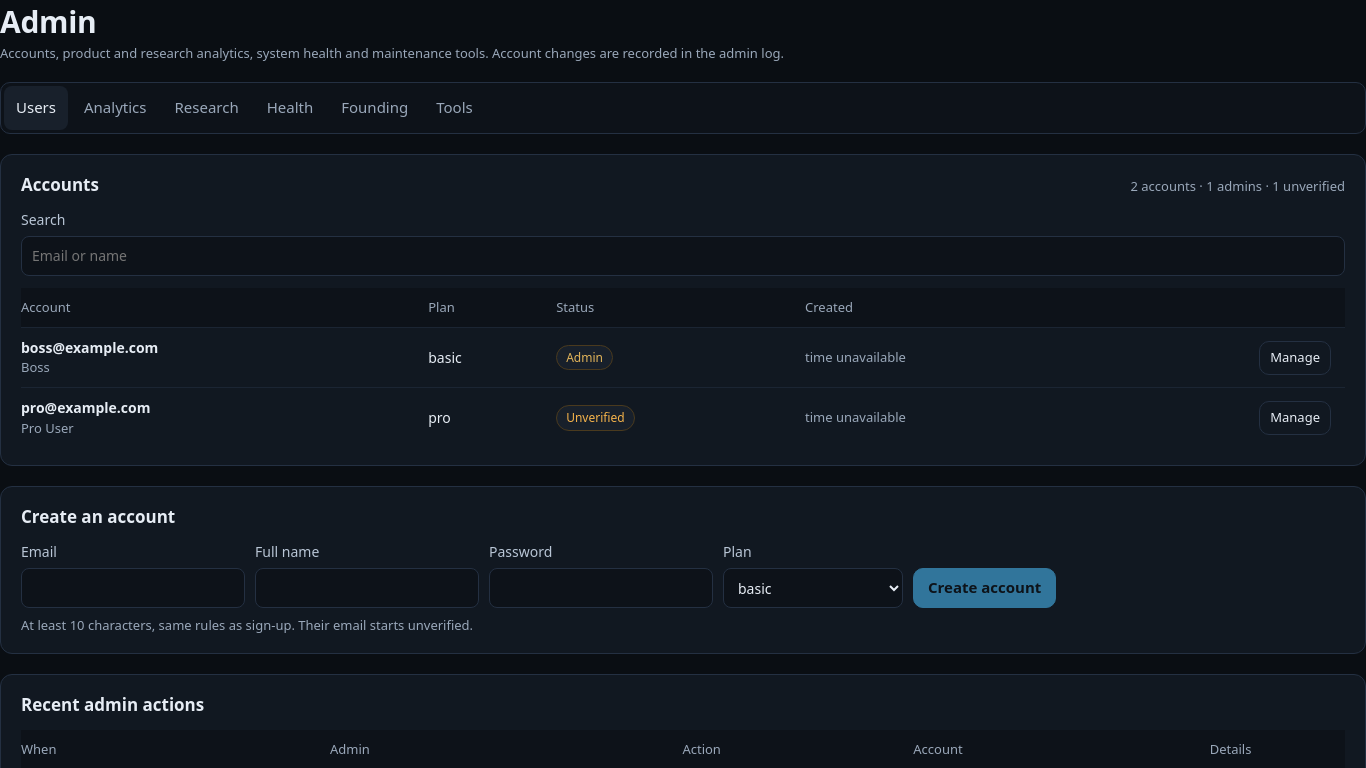
Test: Admin page › lists accounts, changes a plan and shows refusals
This screenshot has width=1366, height=768.
Expected: the text "pro@example.com" is shown, [21,398,150,417]
Expected: the text "2 accounts · 1 admins · 1 unverified" is shown, [1130,177,1345,196]
Type "pro" into the search field. click: (683,256)
box: [21,236,1345,276]
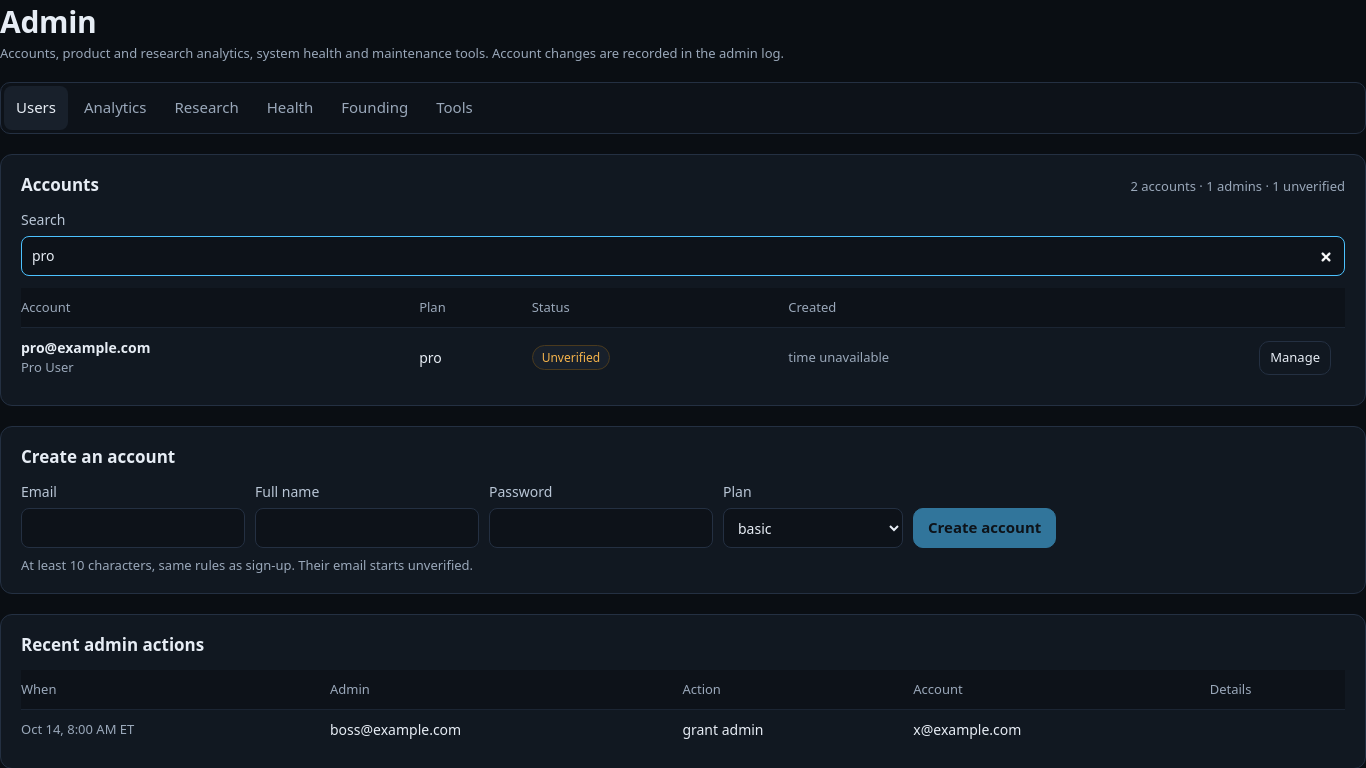
Click the button with aria-label "Manage pro@example.com". click: (1295,358)
box: [1259,341,1331,375]
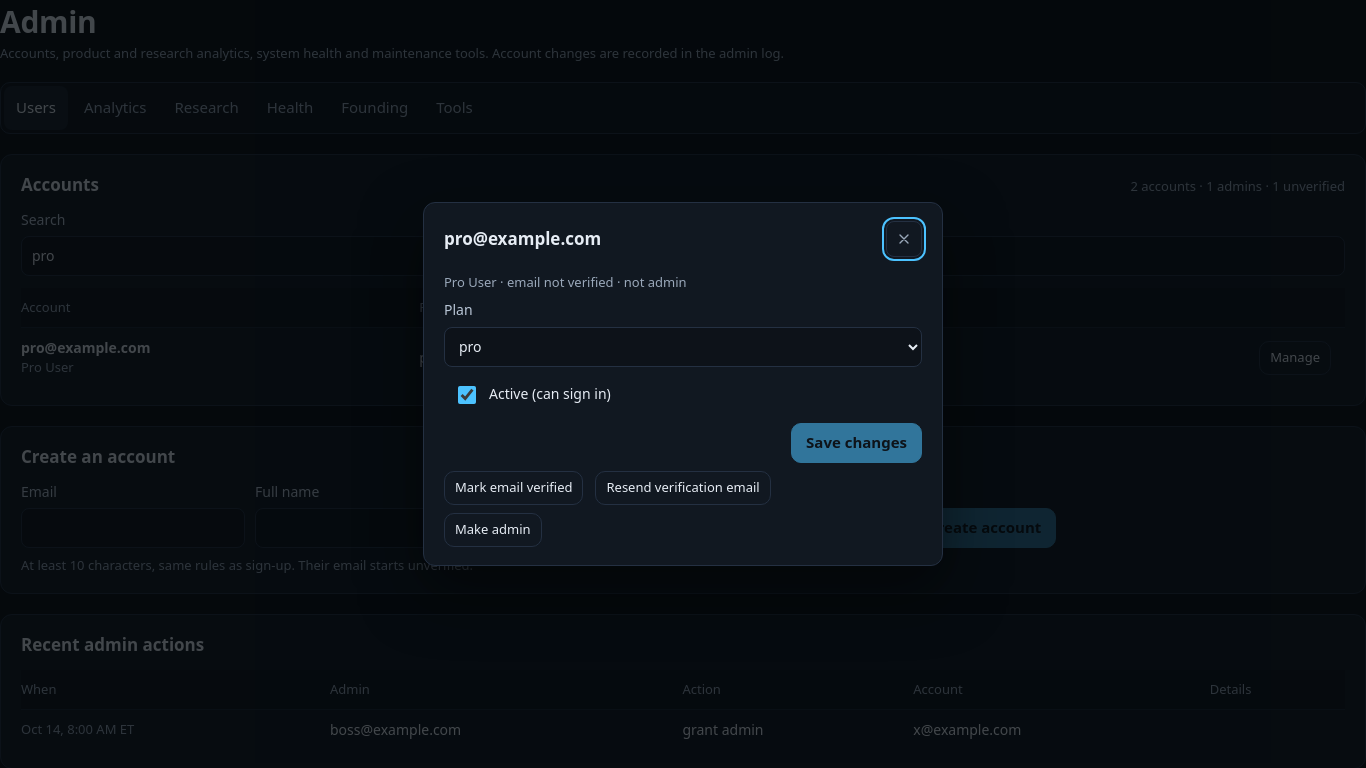
Select "premium" in the dropdown. click: (683,347)
box: [444,327,922,367]
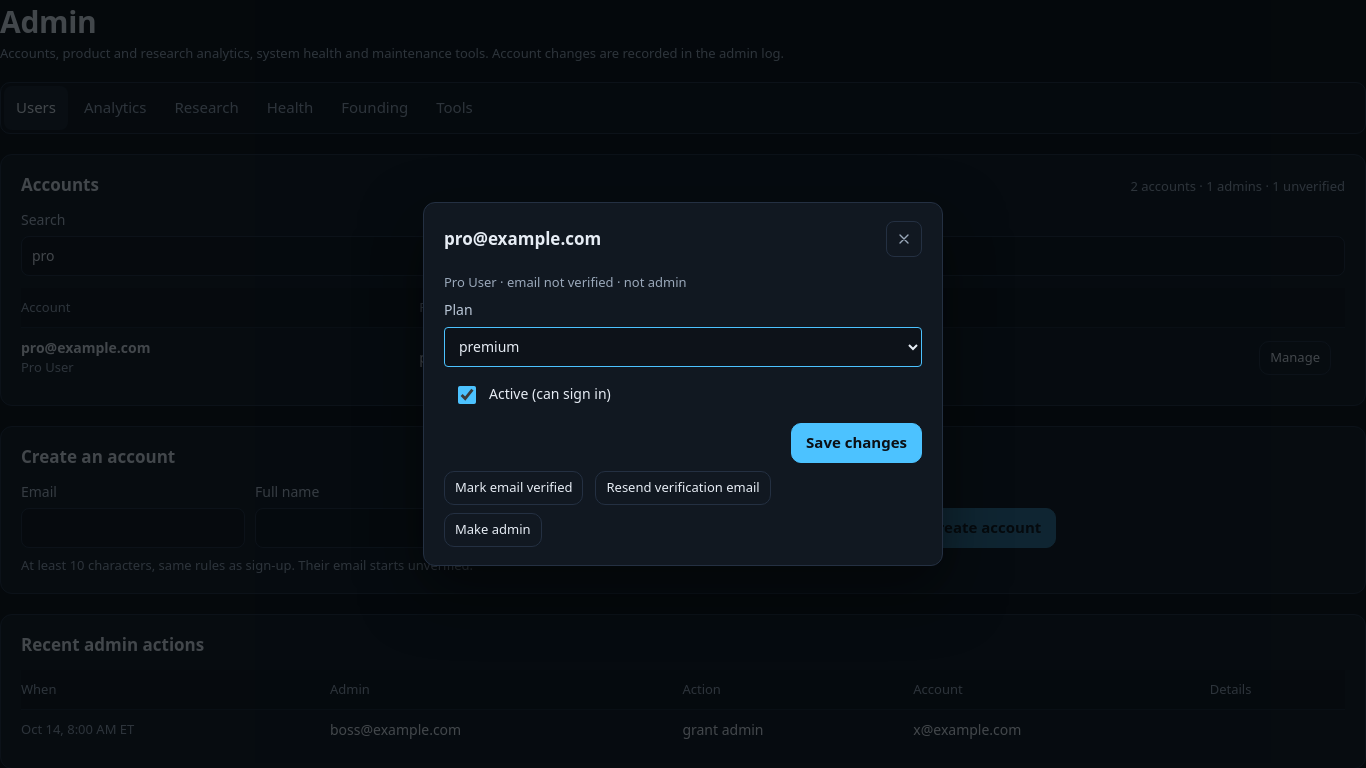
Click the button "Save changes". click: (857,443)
box: [791,423,922,463]
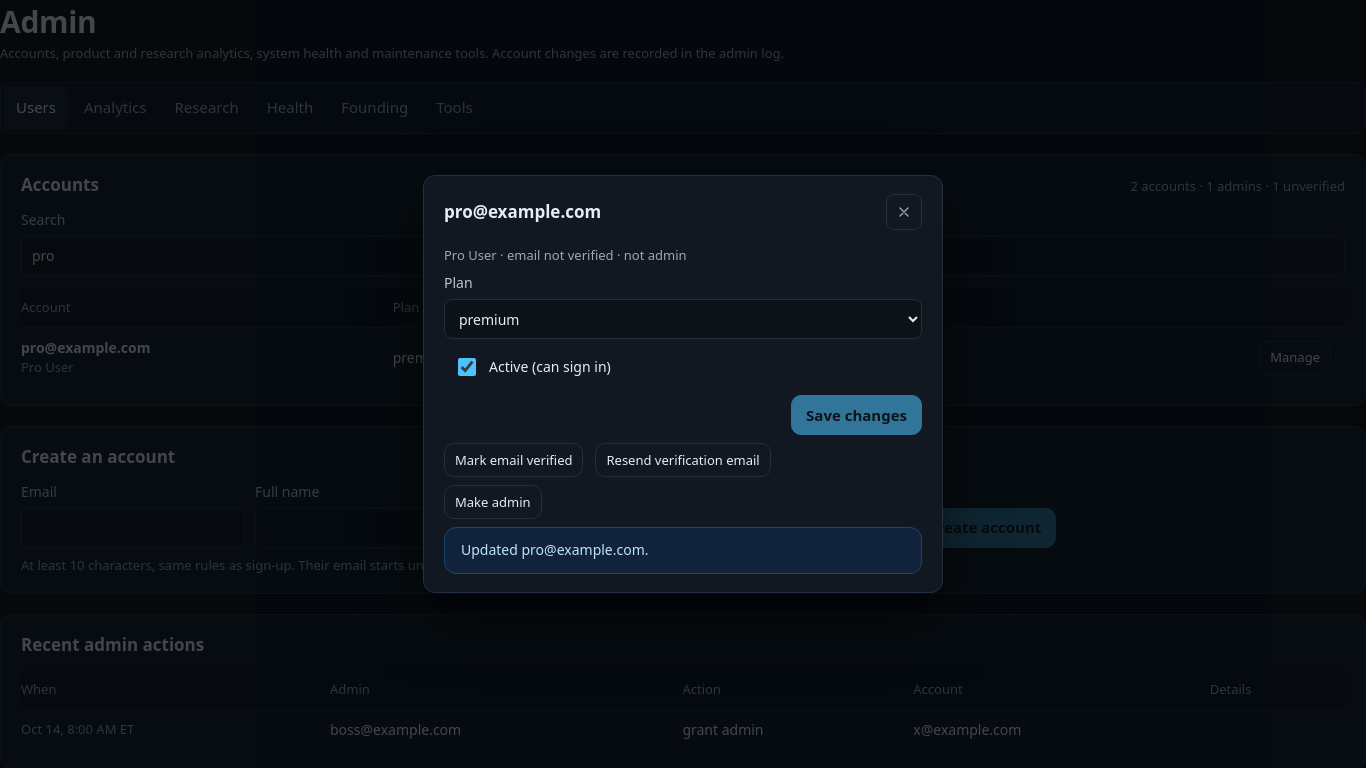
Expected: the button "Mark email verified" is shown, [444,443,584,477]
Expected: the text "Updated pro@example.com." is shown, [444,527,922,574]
Click the button "Make admin". click: (493,502)
box: [444,485,542,519]
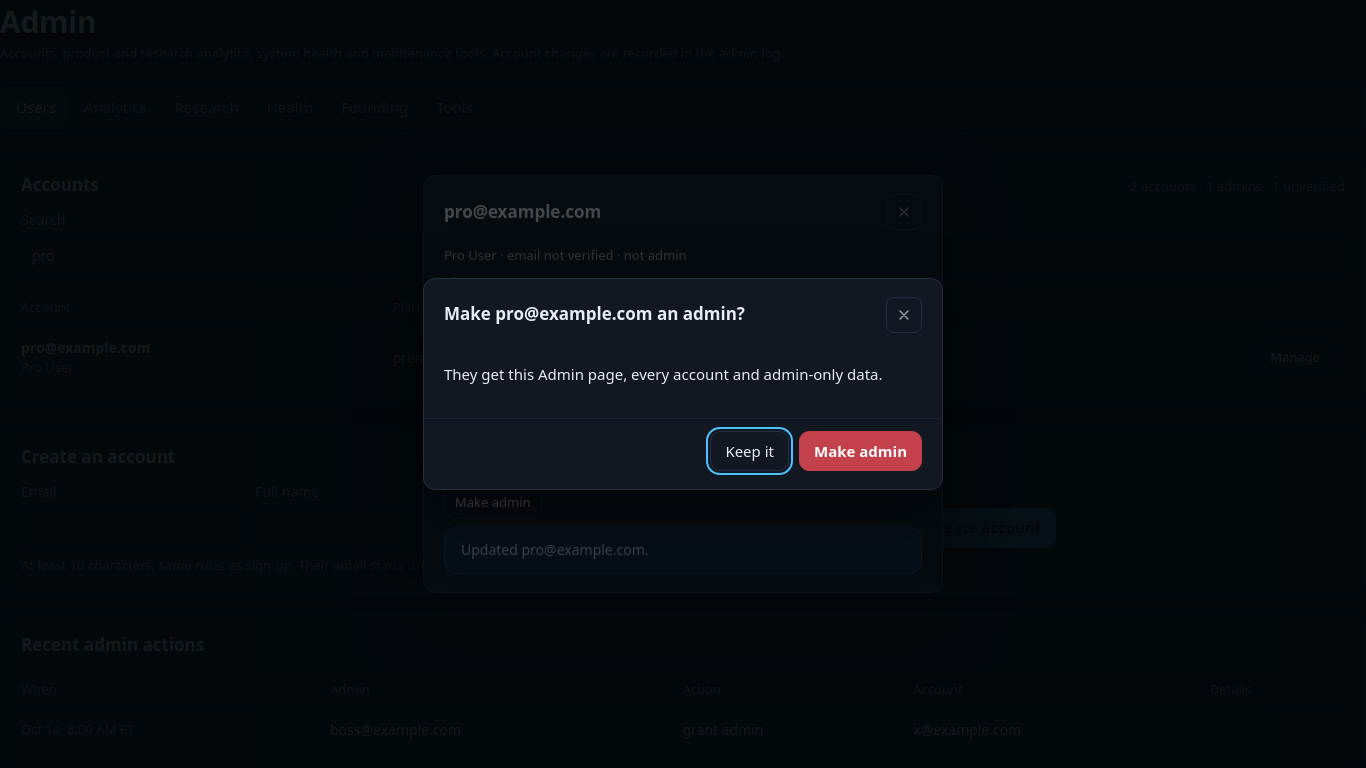
Click the button "Make admin". click: (860,451)
box: [799,431,922,471]
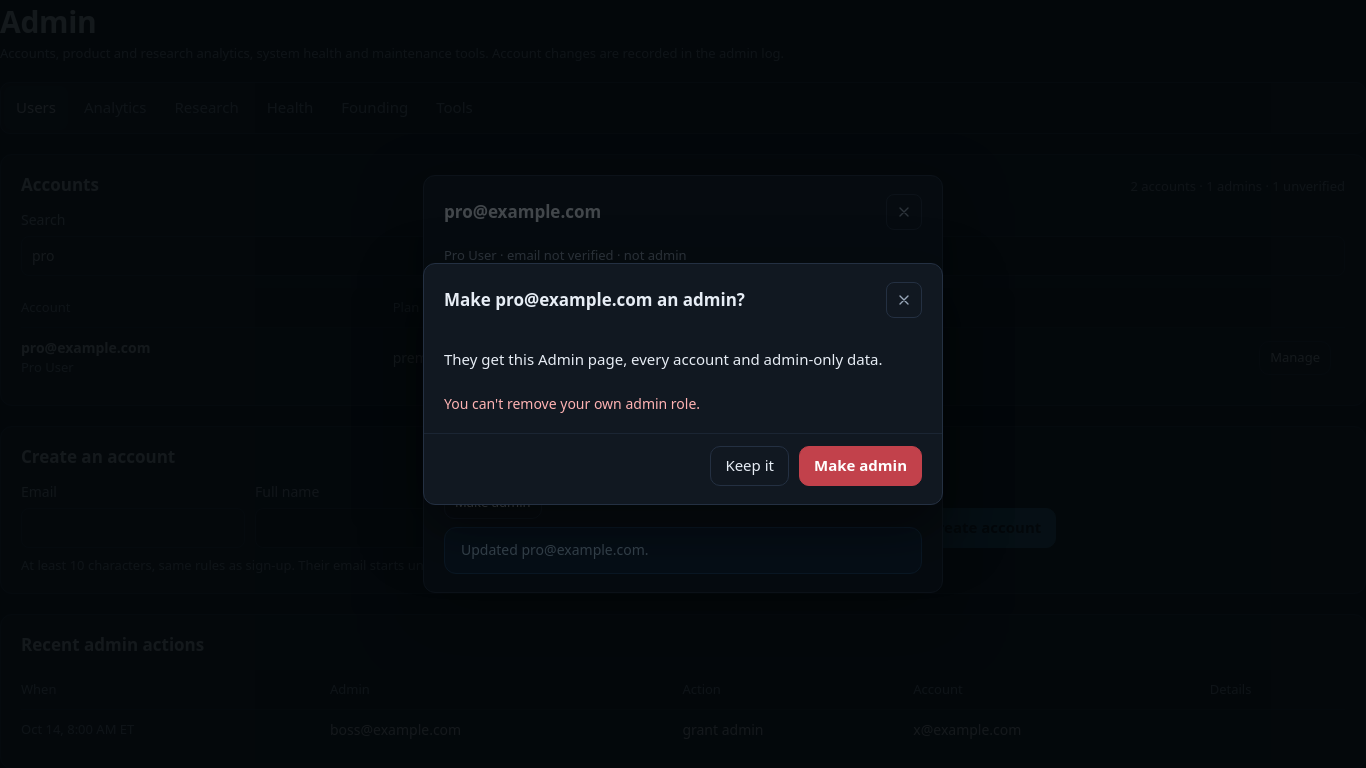
Expected: the text "You can't remove your own admin role." is shown, [444,394,700,413]
